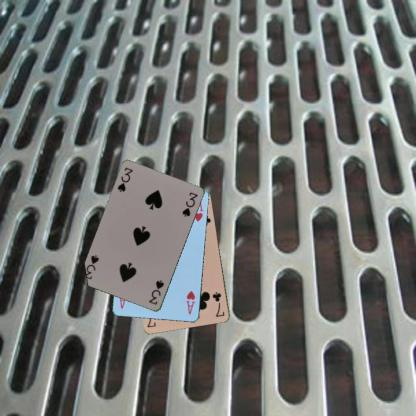3s: (146, 277, 165, 306), (115, 165, 134, 194)
7c: (210, 289, 226, 318)
Ah: (184, 288, 196, 316)
